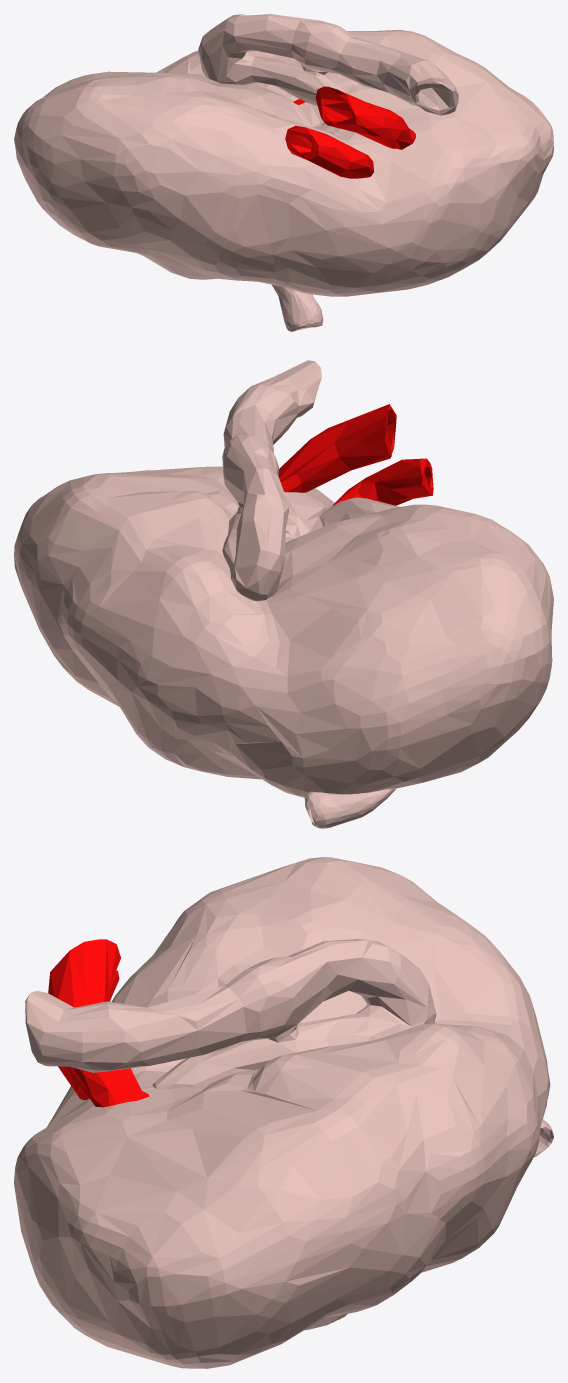
File: lymph_node.glb
3 views of the same model, one above another, from view 1: azimuth 30°, elevation 25°; view 2: azimuth 150°, elevation 25°; view 3: azimuth 270°, elevation 25° (orthographic). The views are drawn at different scales.
Parts seen in each view (by area): view 1: Yao_capsule_of_lymph_node, Yao_efferent_lymph_node, Yao_blood_vasculature, Yao_afferent_lymphatic_vessel; view 2: Yao_capsule_of_lymph_node, Yao_efferent_lymph_node, Yao_blood_vasculature, Yao_afferent_lymphatic_vessel; view 3: Yao_capsule_of_lymph_node, Yao_efferent_lymph_node, Yao_blood_vasculature.
Part boxes in pixels (x1,y1,x2,y2): Yao_capsule_of_lymph_node: [14, 29, 553, 296]; Yao_efferent_lymph_node: [198, 14, 458, 132]; Yao_blood_vasculature: [285, 86, 415, 178]; Yao_afferent_lymphatic_vessel: [272, 284, 323, 331]; Yao_capsule_of_lymph_node: [14, 466, 553, 797]; Yao_efferent_lymph_node: [222, 360, 321, 601]; Yao_blood_vasculature: [278, 404, 433, 505]; Yao_afferent_lymphatic_vessel: [304, 788, 396, 828]; Yao_capsule_of_lymph_node: [14, 857, 550, 1368]; Yao_efferent_lymph_node: [25, 939, 436, 1089]; Yao_blood_vasculature: [48, 939, 149, 1107].
Size of the model in its own units: 0.0183 by 0.0107 by 0.013.
